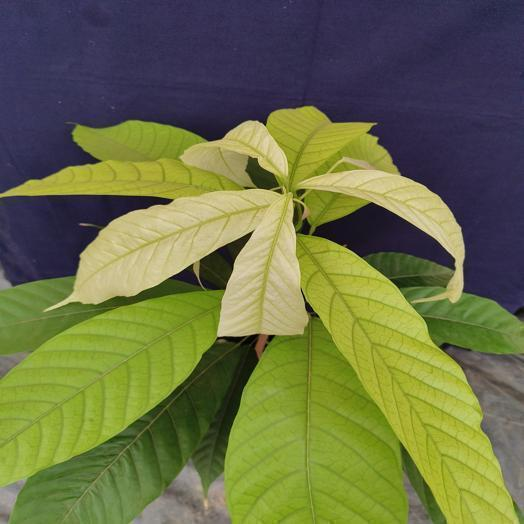Healthy Leaf: (11, 342, 247, 523), (401, 287, 523, 354), (364, 252, 452, 287)
Iron: (298, 237, 515, 523), (0, 292, 220, 485), (225, 319, 407, 523), (50, 189, 278, 308), (300, 170, 463, 301), (0, 276, 195, 354), (218, 194, 307, 335), (0, 159, 239, 199), (267, 106, 373, 188), (181, 121, 286, 187), (195, 122, 287, 184), (73, 120, 204, 160)
